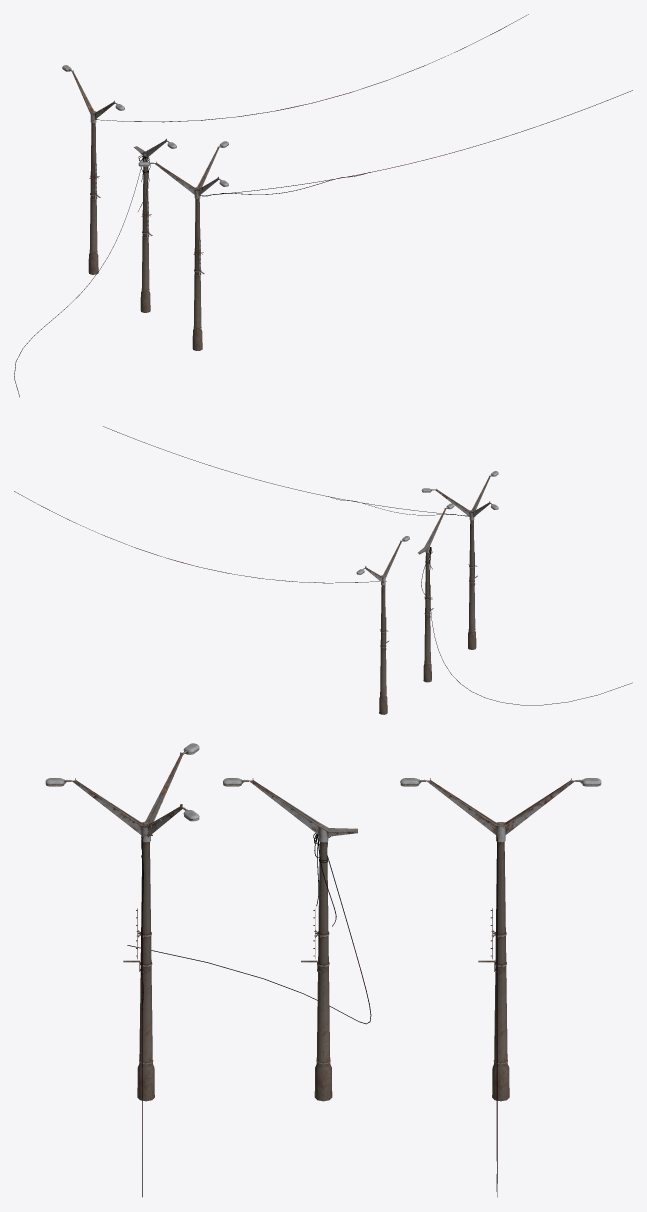
Rendered from pripyat_light_poles.glb.
The picture shows the model from 3 angles, top to bottom: view 1: azimuth 30°, elevation 25°; view 2: azimuth 150°, elevation 25°; view 3: azimuth 270°, elevation 25°; orthographic projection. The views are drawn at different scales.
Parts seen in each view (by area): view 1: LightPole_03_1, LightPole_02_0, LightPole_01_2, PowerCable_02_3; view 2: LightPole_03_1, LightPole_02_0, LightPole_01_2, PowerCable_02_3; view 3: LightPole_03_1, LightPole_02_0, LightPole_01_2, PowerCable_04_4, PowerCable_01_6.
Part boxes in pixels (x1,y1,x2,y2): LightPole_03_1: (138,141,228,350); LightPole_02_0: (62,65,124,274); LightPole_01_2: (134,138,176,312); PowerCable_02_3: (200,90,632,196); LightPole_03_1: (421,471,498,649); LightPole_02_0: (356,536,409,714); LightPole_01_2: (418,503,454,682); PowerCable_02_3: (103,426,468,516); LightPole_03_1: (45,743,199,1101); LightPole_02_0: (400,778,601,1101); LightPole_01_2: (223,778,357,1101); PowerCable_04_4: (127,834,371,1024); PowerCable_01_6: (496,837,497,1197).
Size of the model in its own units: 34.28 by 10.05 by 15.67.
2 materials, 1 textured.
